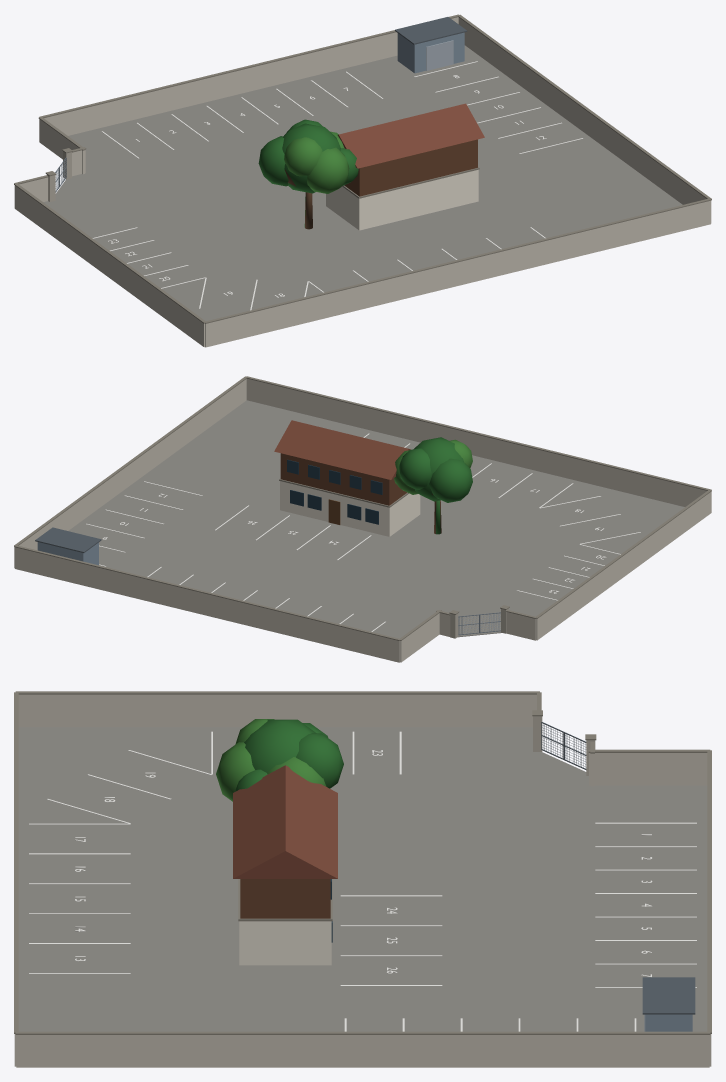
The model's file is parking_lot.glb.
3 renders of one model, top to bottom at view 1: azimuth 30°, elevation 25°; view 2: azimuth 150°, elevation 25°; view 3: azimuth 270°, elevation 25°, orthographic. The views are drawn at different scales.
Parts seen in each view (by area): view 1: LOT_Ground, LOT_Walls, LOT_House, LOT_BigTree, LOT_Shed, LOT_SlotLines; view 2: LOT_Ground, LOT_Walls, LOT_House, LOT_BigTree, LOT_Shed, LOT_SlotLines; view 3: LOT_Ground, LOT_Walls, LOT_House, LOT_BigTree, LOT_SlotLines, LOT_Shed, LOT_SlotNumbers.
Part boxes in pixels (left/top/right/bottom): LOT_Ground: left=43, top=45, right=682, bottom=320; LOT_Walls: left=14, top=14, right=711, bottom=347; LOT_House: left=326, top=103, right=484, bottom=230; LOT_BigTree: left=258, top=119, right=358, bottom=229; LOT_Shed: left=395, top=17, right=467, bottom=73; LOT_SlotLines: left=92, top=61, right=582, bottom=310; LOT_Ground: left=68, top=400, right=684, bottom=638; LOT_Walls: left=14, top=376, right=711, bottom=662; LOT_House: left=274, top=420, right=420, bottom=536; LOT_BigTree: left=394, top=437, right=472, bottom=534; LOT_Shed: left=35, top=527, right=101, bottom=565; LOT_SlotLines: left=86, top=433, right=640, bottom=631; LOT_Ground: left=18, top=727, right=707, bottom=1031; LOT_Walls: left=14, top=691, right=711, bottom=1067; LOT_House: left=233, top=765, right=337, bottom=965; LOT_BigTree: left=216, top=719, right=343, bottom=801; LOT_SlotLines: left=29, top=731, right=696, bottom=1031; LOT_Shed: left=642, top=977, right=695, bottom=1031; LOT_SlotNumbers: left=75, top=750, right=652, bottom=977.
Bounding box in the file's own units: 44.66 × 8.56 × 38.51.
